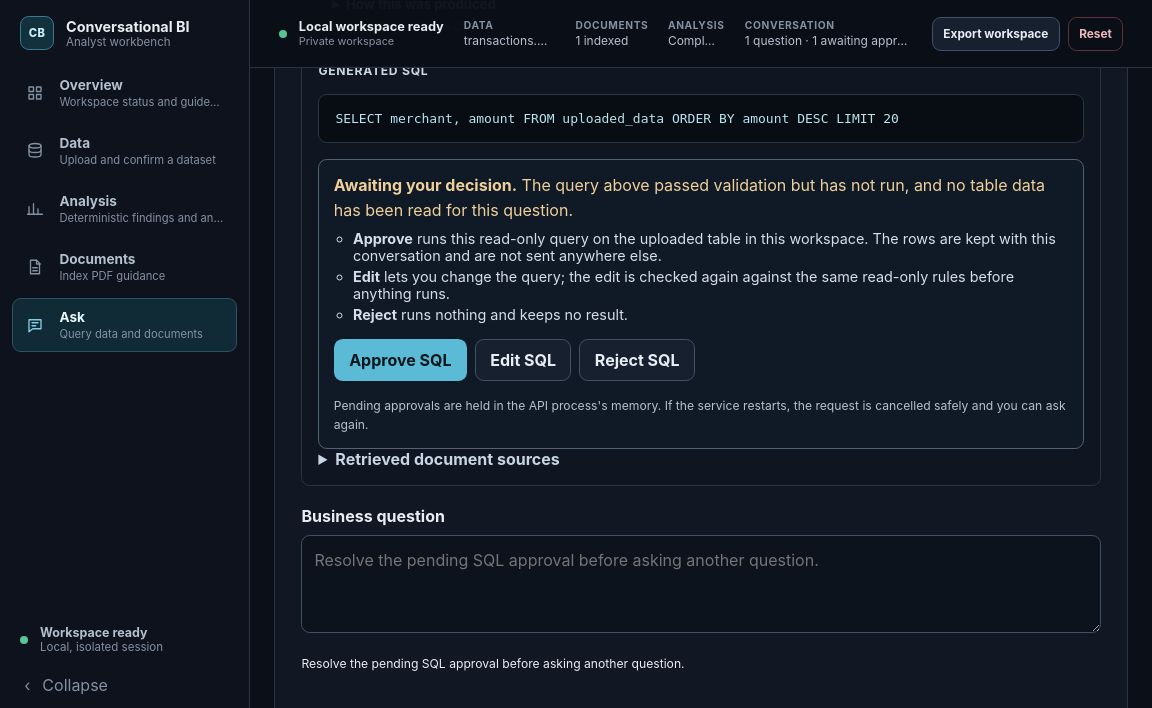
Test: human approval › shows what the server resolved when an edit is refused, with nothing executed
The width and height of the screenshot is (1152, 708).
(page scrolled)
Click the button "Approve SQL" at coordinates (400, 360), box [334,339,467,381]
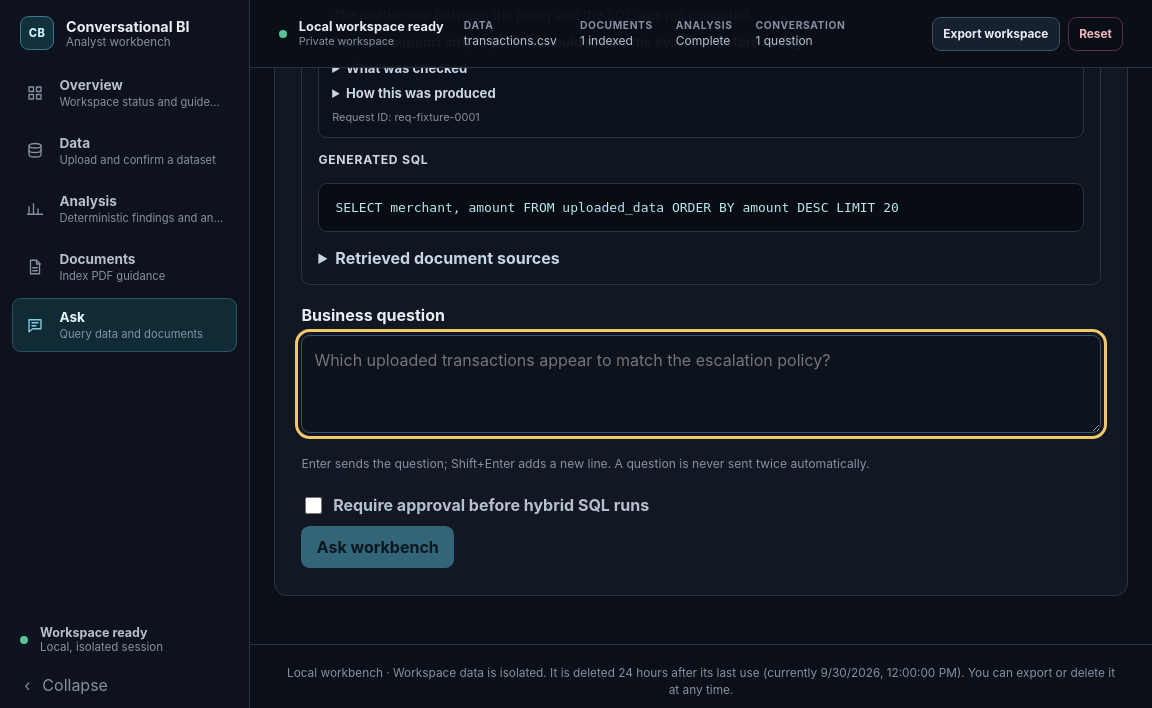
Expected: the button "Approve SQL" is gone
Expected: the text box labelled "Business question" is enabled, [301,335,1101,433]
